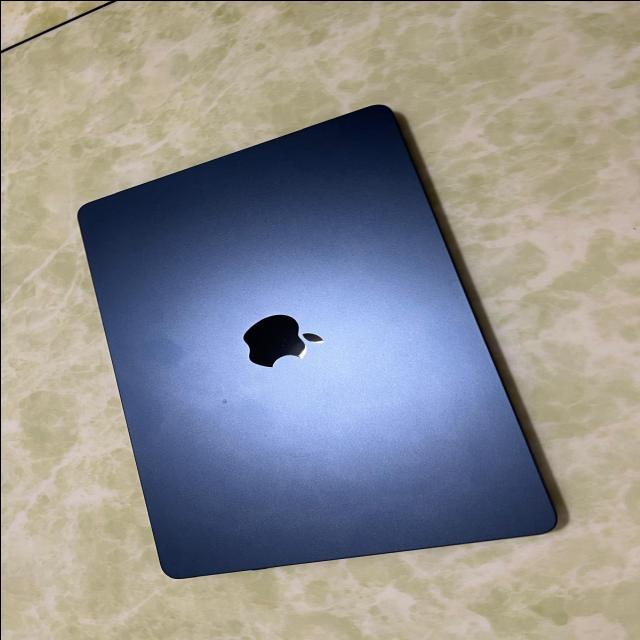laptop: (76, 102, 559, 579)
